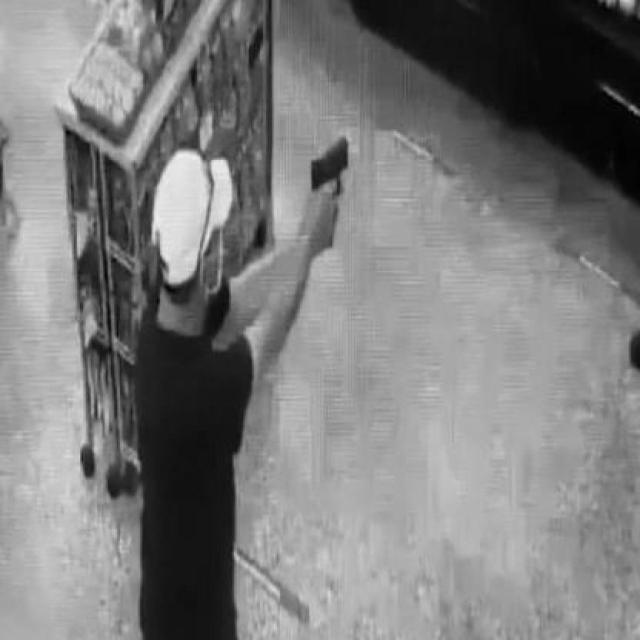weapon: (308, 133, 350, 204)
